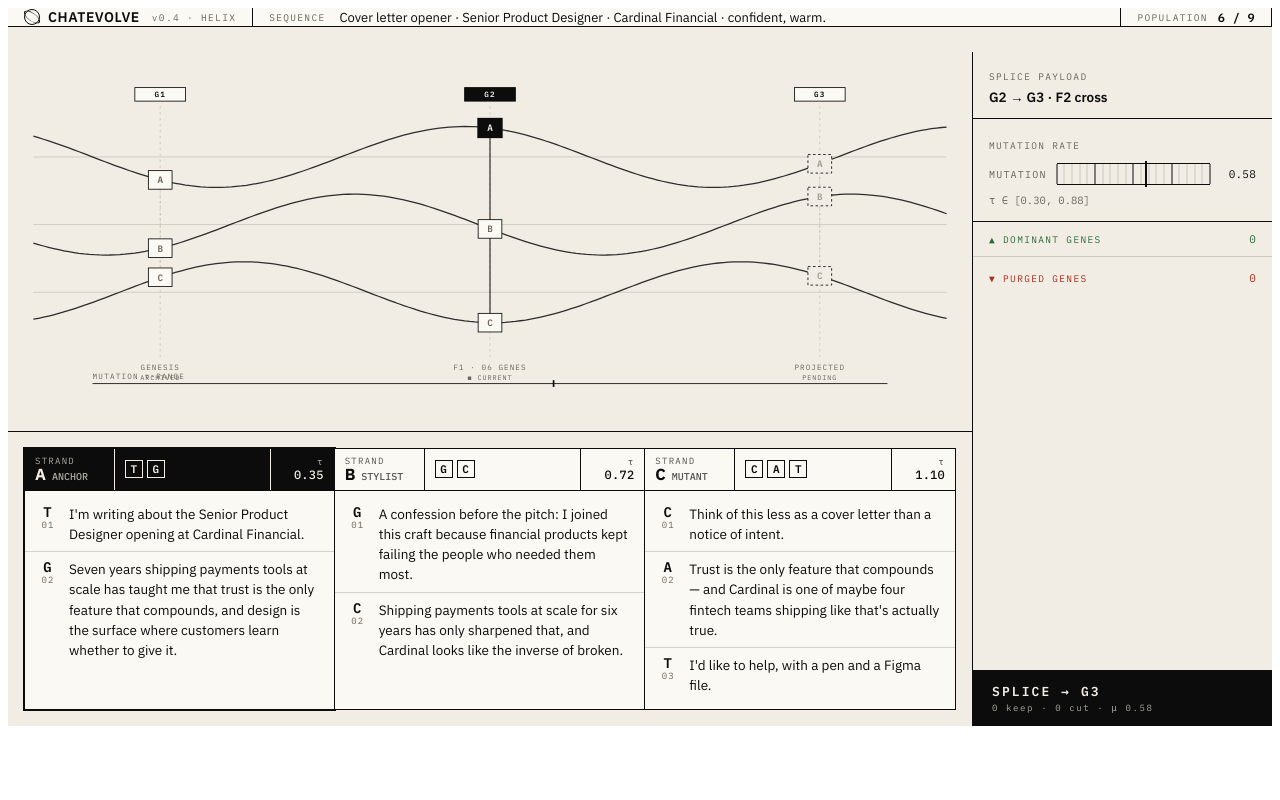
it: HelixPage › marks a sentence dominant and reflects it in the gene pool count
The width and height of the screenshot is (1280, 800).
Expected: the text with test id "dominant-count" reads "0", [1249,232,1256,246]
Step 1. Click the button with aria-label "sentence 1" → click(179, 524), box [25,497,334,552]
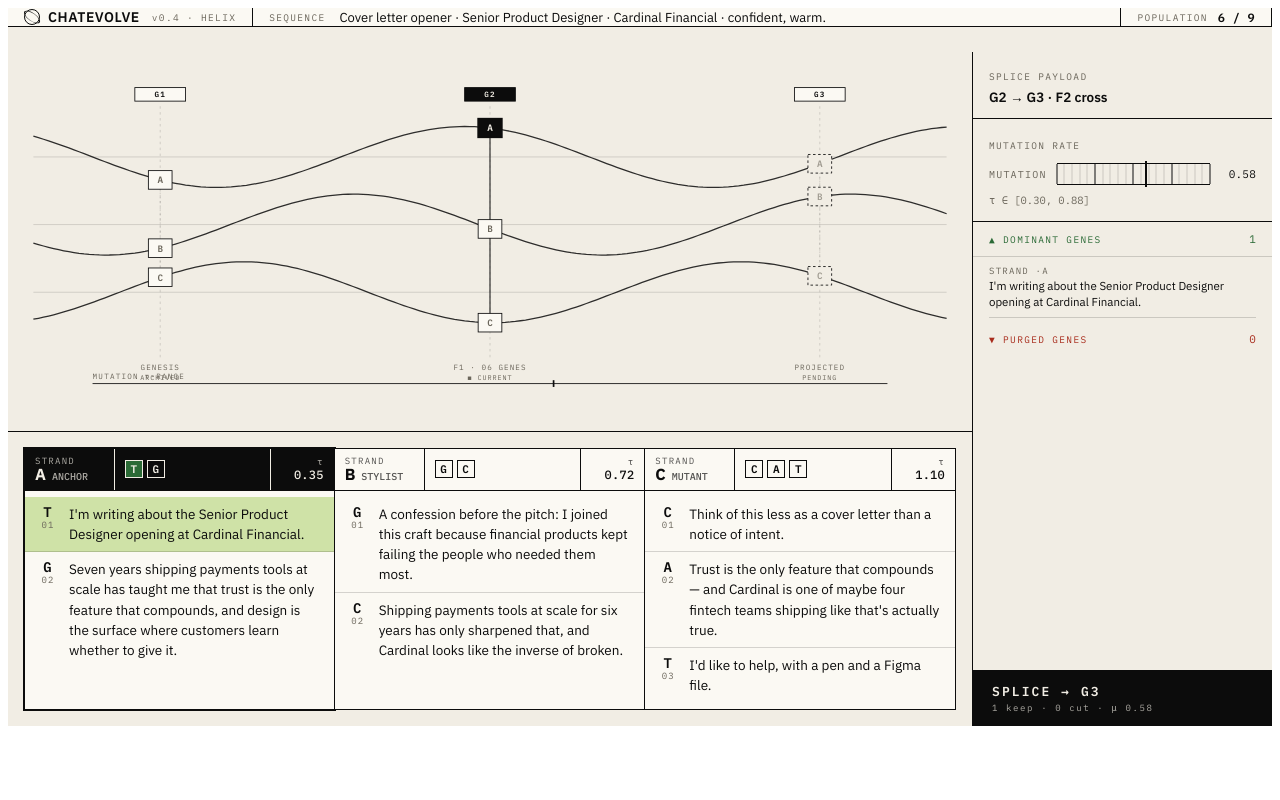
Expected: the text with test id "dominant-count" reads "1", [1249,232,1256,246]
